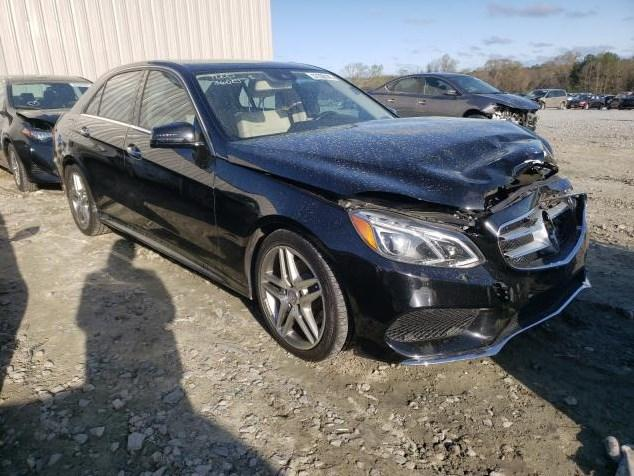Back-door: (69, 69, 146, 230)
Back-wheel: (64, 164, 113, 234)
Back-window: (99, 71, 143, 122), (85, 89, 102, 114)
Fender: (212, 157, 385, 297)
Front-bumper: (342, 177, 590, 363)
Front-door: (124, 67, 224, 282)
Front-wheel: (253, 228, 354, 360)
Front-window: (139, 71, 192, 129)
Headlight: (348, 207, 487, 268)
Hood: (228, 116, 565, 225)
Mirror: (499, 193, 585, 268), (151, 122, 202, 149), (149, 123, 195, 149)
Quarter-panel: (54, 113, 80, 186)
Rocker-panel: (102, 216, 239, 291)
Roof: (170, 59, 322, 70)
Windshield: (194, 69, 397, 142)
